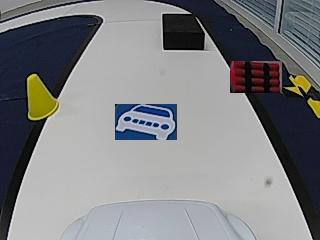block: (162, 13, 204, 49)
cone: (27, 74, 59, 119)
